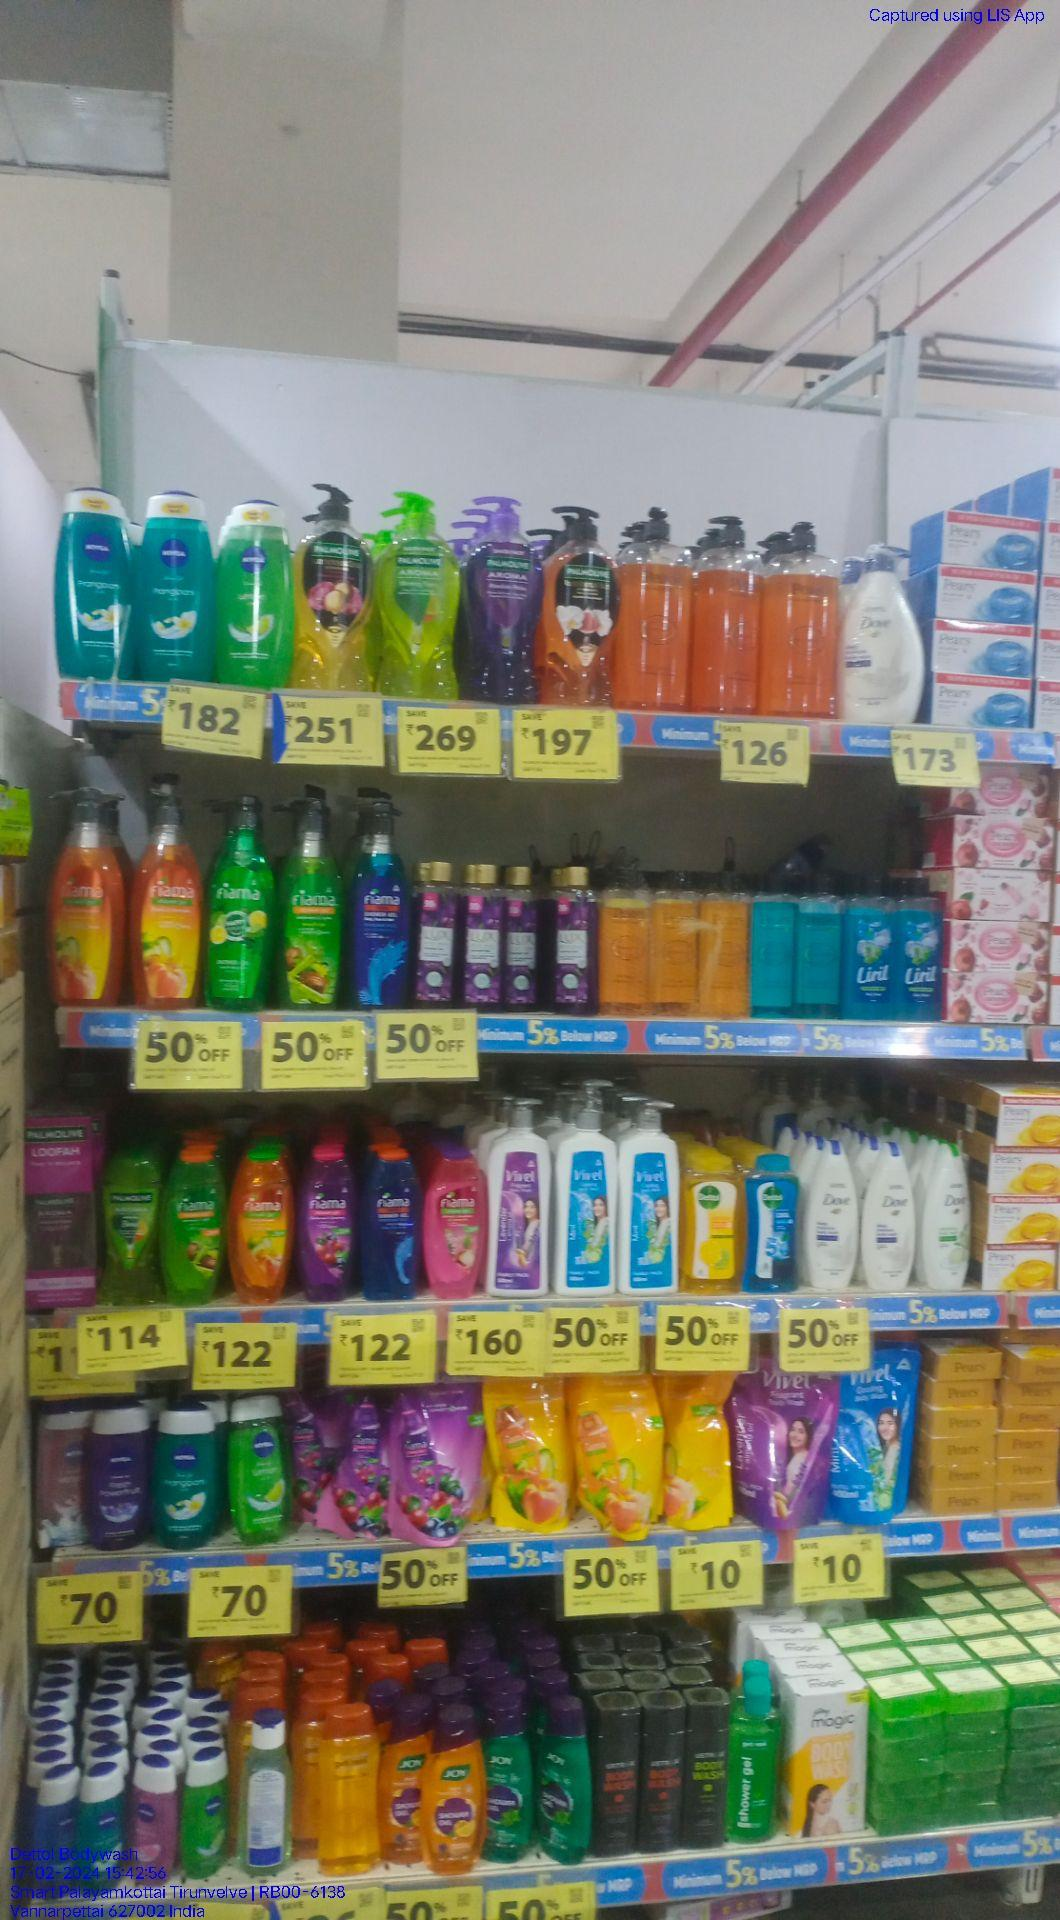Dettol_Bodywash_Cool: (748, 1156, 800, 1295)
Dettol_Bodywash_Refresh: (680, 1155, 743, 1293)
Dove_Deep_Moisture_Body_Wash_250ML: (804, 1143, 859, 1288), (863, 1142, 915, 1293)
Dove_Refreshing_Body_Wash_250ML: (926, 1146, 970, 1290)
Fiama_Shower_Gel_Lemongrass_and_Jojoba_250ML: (166, 1150, 222, 1301)
Fiama_Shower_Gel_Patchouli_and_Macadamia_250ML: (423, 1153, 490, 1299)
Fiama_Shower_Gel_Peach_and_Avocado_250ML: (228, 1150, 291, 1304)
Get_Real_Shower_Gel_Moisturising_Glycerin_300ML: (321, 1709, 376, 1877)
Joy_Shower_Gel_Mandarin_and_Lemongrass_250ML: (424, 1718, 487, 1876), (379, 1707, 420, 1861)
Joy_Shower_Gel_Mint_and_Eucalyptus_250ML: (539, 1702, 594, 1866), (488, 1716, 533, 1864)
Liril_Cooling_Mint_Body_Wash_250ML: (845, 880, 897, 1018), (898, 878, 949, 1019)
Lux_Black_Orchid_Scent_and_Juniper_Oil_Body_Wash_245ML: (415, 861, 458, 1005), (556, 867, 597, 1014), (466, 863, 505, 1001), (510, 864, 539, 1006)
Nivea_Shower_Gel_Frangipani_and_Oil_250ML: (151, 1406, 219, 1551)
Nivea_Shower_Gel_Fresh_Powerfruit_250ML: (84, 1408, 145, 1547)
Nivea_Shower_Gel_Lemon_and_Oil_250ML: (227, 1401, 290, 1544)
Palmolive_Aroma_Morning_Tonic_Shower_Gel_250ML: (102, 1155, 159, 1301)
Pears_Pure_Glycerin_and_Mint_Extracts_Body_Wash_250ML: (752, 872, 795, 1014), (800, 873, 841, 1018)
